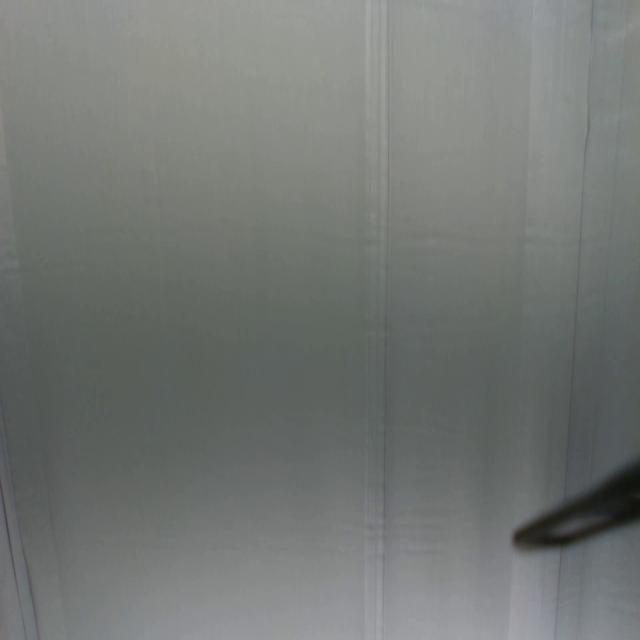crease: (364, 0, 393, 639), (564, 0, 596, 476), (599, 0, 631, 355), (0, 434, 40, 639), (552, 551, 566, 640)
